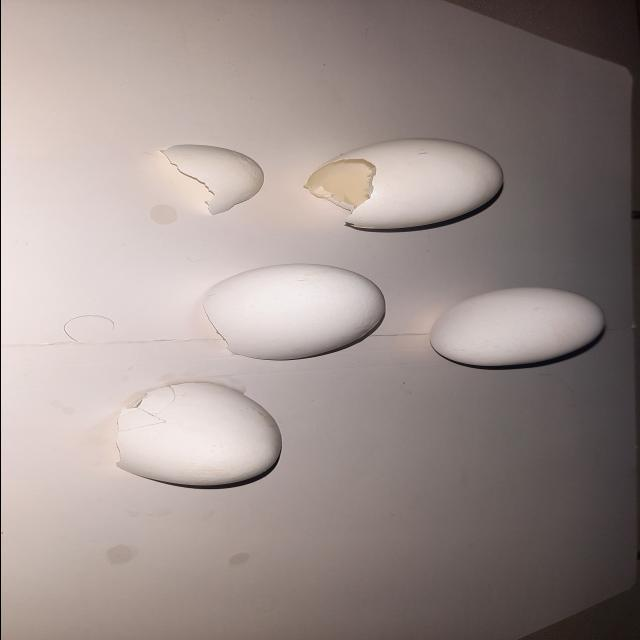egg shell: (96, 377, 290, 489), (187, 260, 393, 364), (295, 136, 509, 234), (424, 283, 612, 372), (152, 140, 270, 218)
